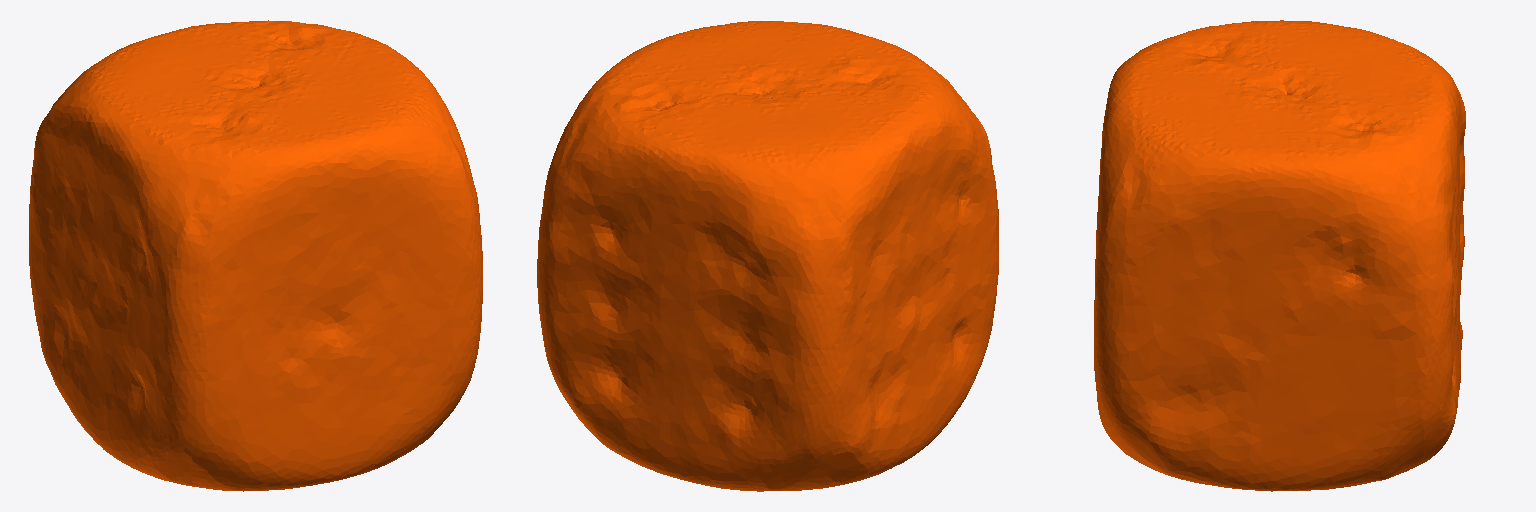
URDF robot description (062_dice):
<?xml version="1.0" ?>
<robot name="062_dice">
   <material name="obj_color">
      <color rgba="1.0 0.423529411765 0.0392156862745 1.0"/>
   </material>
   <link name="top">
      <inertial>
         <origin rpy="3.479131443162464e-07 3.675111162764725e-07 3.699610635503847e-07" xyz="0.0001310314908919776 -0.0002542270384487094 -0.001218825206669513"/>
         <mass value="0.008451553012170565"/>
         <inertia ixx="3.676061710038134e-07" ixy="5.33945835676075e-10" ixz="-6.586701927969016e-10" iyy="3.69838553290005e-07" iyz="3.269141800041524e-10" izz="3.479405998492852e-07"/>
      </inertial>
      <visual>
         <origin rpy="0 0 0" xyz="0 0 0"/>
         <geometry>
            <mesh filename="top_watertight_tiny.stl" scale="1 1 1"/>
         </geometry>
         <material name="obj_color"/>
      </visual>
      <collision>
         <origin rpy="0 0 0" xyz="0 0 0"/>
         <geometry>
            <mesh filename="top_watertight_tiny.obj" scale="1 1 1"/>
         </geometry>
      </collision>
   </link>
   <link name="bottom">
      <inertial>
         <origin rpy="1.633333333199431e-08 1.633333333199431e-08 1.633333333362855e-08" xyz="0.3464080000000008 0.3464080000000008 0.3464080000000008"/>
         <mass value="0.0009800000000000017"/>
         <inertia ixx="1.633333333253906e-08" ixy="5.447480642029219e-19" ixz="5.447480642029219e-19" iyy="1.633333333253906e-08" iyz="5.447480642029219e-19" izz="1.633333333253906e-08"/>
      </inertial>
      <visual>
         <origin rpy="0 0 0" xyz="0 0 0"/>
         <geometry>
            <mesh filename="bottom_watertight_tiny.stl" scale="1 1 1"/>
         </geometry>
         <material name="obj_color"/>
      </visual>
   </link>
   <link name="world"/>
   <joint name="world_to_base" type="fixed">
      <origin xyz="0 0 0"/>
      <axis xyz="0 0 0"/>
      <parent link="world"/>
      <child link="bottom"/>
   </joint>
   <joint name="rotation" type="revolute">
      <origin xyz="0 0 0"/>
      <axis xyz="0 0 -1"/>
      <parent link="bottom"/>
      <child link="top"/>
      <dynamics damping="1.0" friction="1.0"/>
      <limit effort="0.1" velocity="0.1" lower="0" upper="0.001"/>
   </joint>
</robot>

--- Facts derived from the render (not from the file) ---
Views: 3 orthographic renders of the robot side by side, from view 1: azimuth 30°, elevation 25°; view 2: azimuth 150°, elevation 25°; view 3: azimuth 270°, elevation 25°.
Model 062_dice with 3 links and 2 joints (1 revolute, 1 fixed), rooted at world, posed every joint at zero.
Visible links, largest first — view 1: top; view 2: top; view 3: top.
Link boxes in pixels (bbox=[...]): top: bbox=[29, 20, 482, 491]; top: bbox=[537, 21, 998, 491]; top: bbox=[1094, 20, 1465, 491].
Size in the robot's own frame: 0.0172 by 0.0171 by 0.0176 metres.
Meshes: 2 distinct files referenced, 1 mesh visuals loaded (1 binary STL); not drawn: 1 (reference not matched to a file when rendering).
